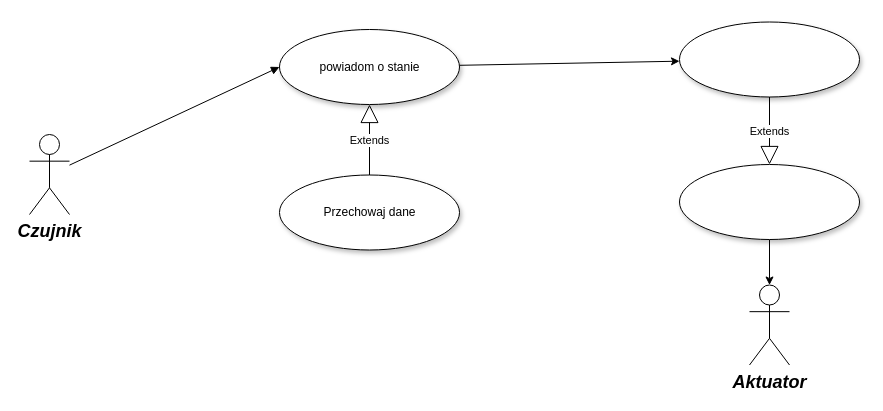
The diagram is 883 pixels wide and 411 high, and some of its shapes have lost their labels. The centre of each missing label's shape, as x and y in pixels:
"Przetworz dane" goes at point (770, 60).
"Zmien stan" goes at point (770, 203).
